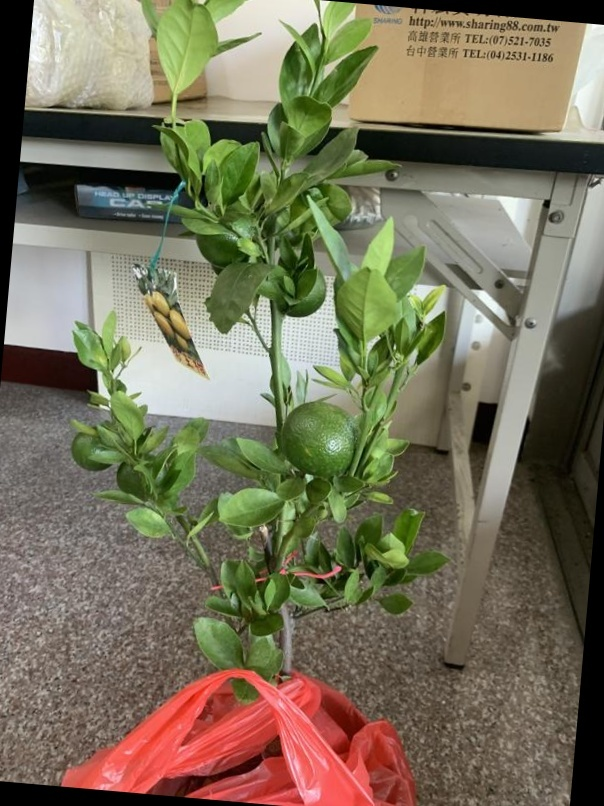Tangerine: (280, 395, 361, 474)
